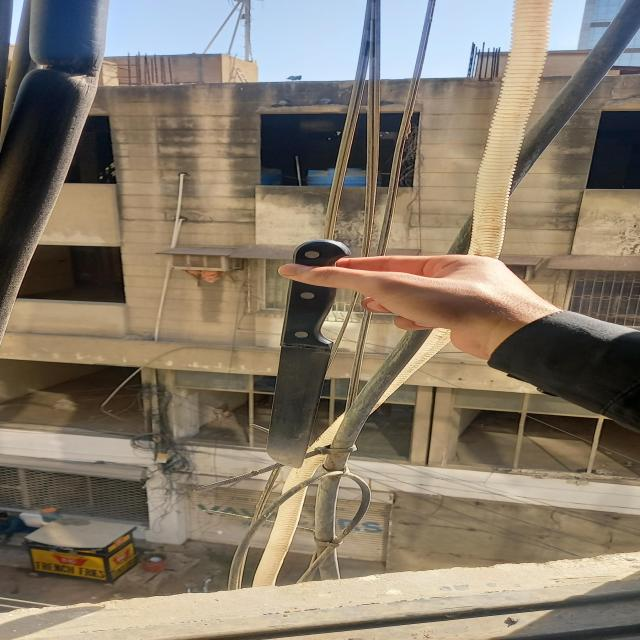Knife: (269, 239, 351, 468)
Person: (276, 254, 640, 432)
